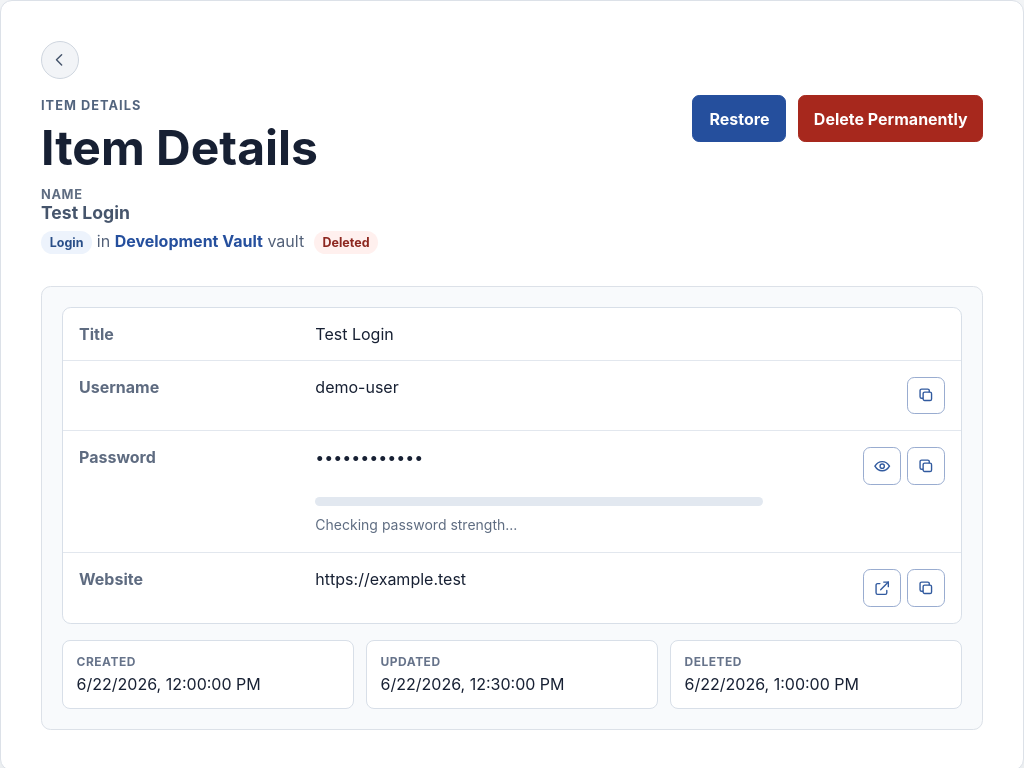
Test: ItemDetailPage › restores a deleted item
Click the button "Restore" at (740, 119), box [692, 95, 786, 142]
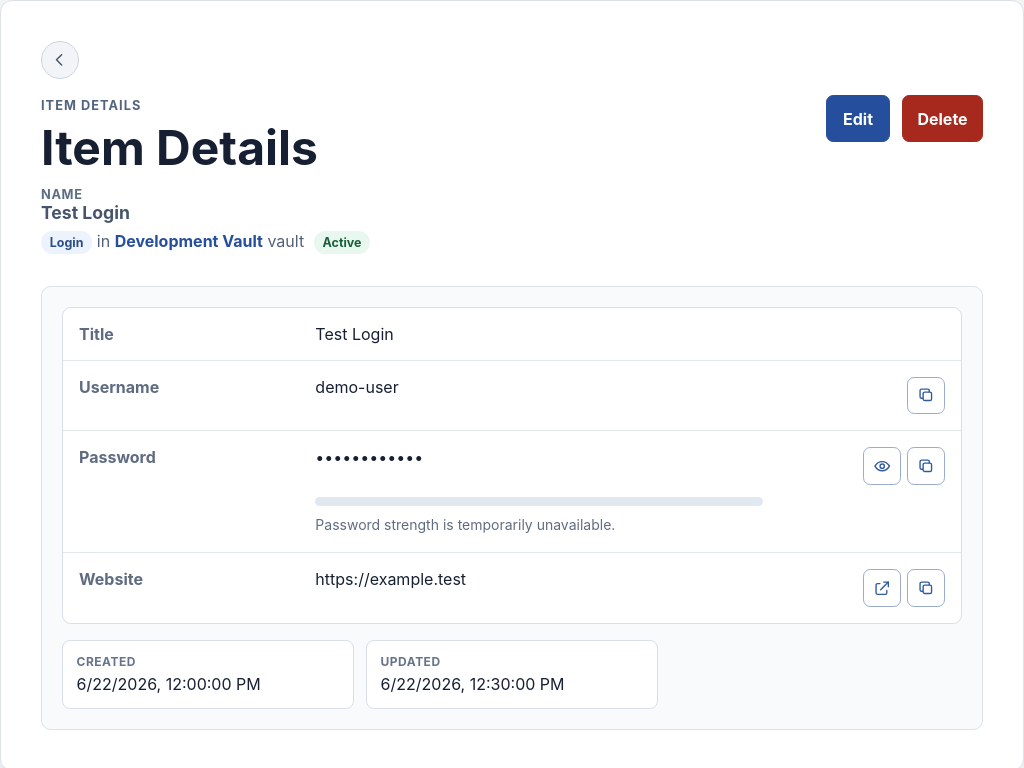
Check: the button "Edit" is shown, box [826, 95, 890, 142]
